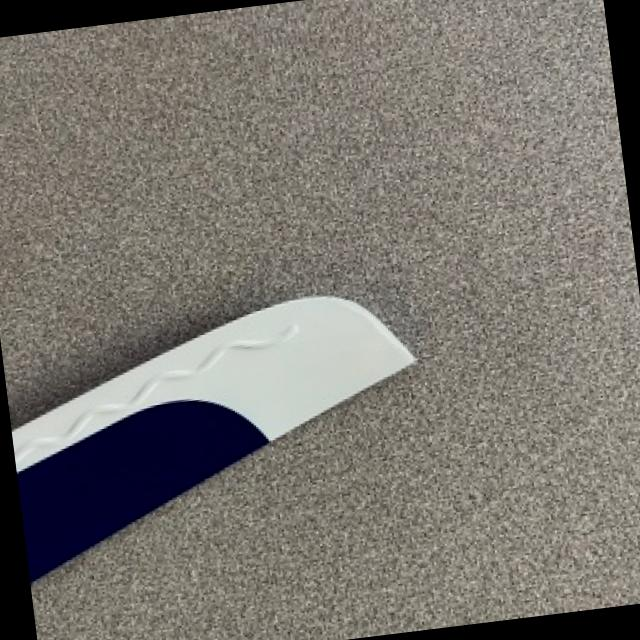healthy: (11, 296, 413, 579)
